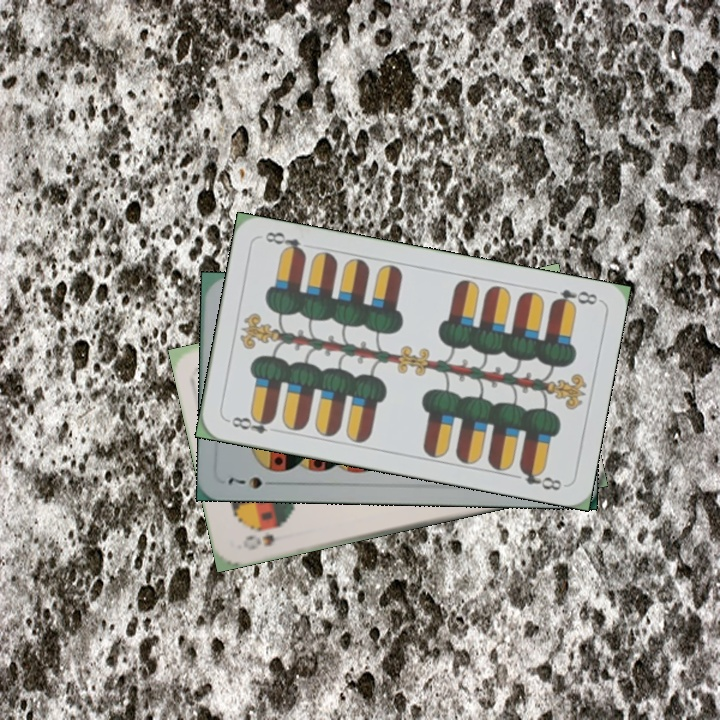E8: (223, 411, 277, 437), (547, 285, 600, 311)
S7: (224, 473, 281, 491)
SO: (239, 521, 288, 553)
